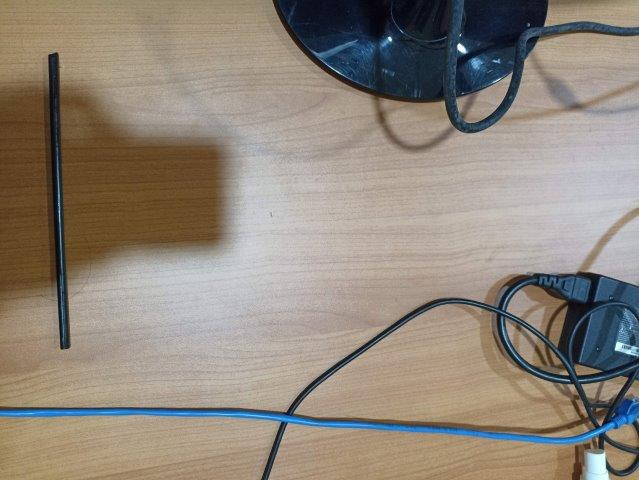sedotan: (48, 53, 71, 348)
